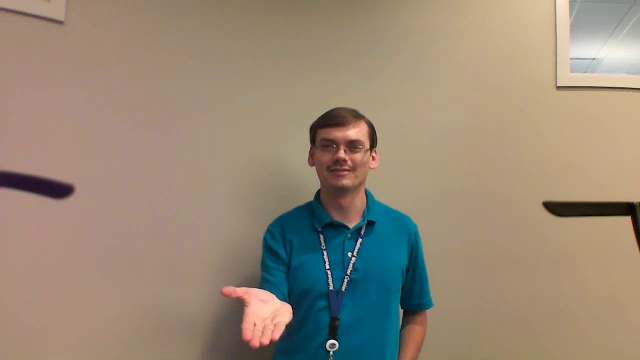land: (214, 276, 308, 350)
